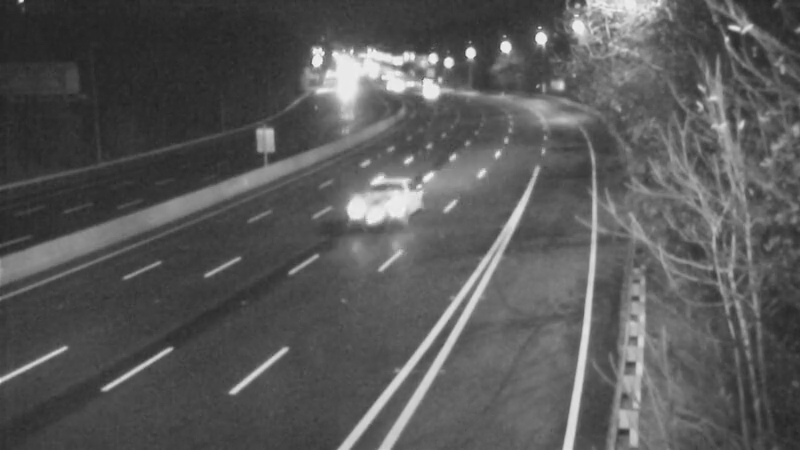vehicle: (348, 162, 428, 242), (405, 66, 455, 116)
